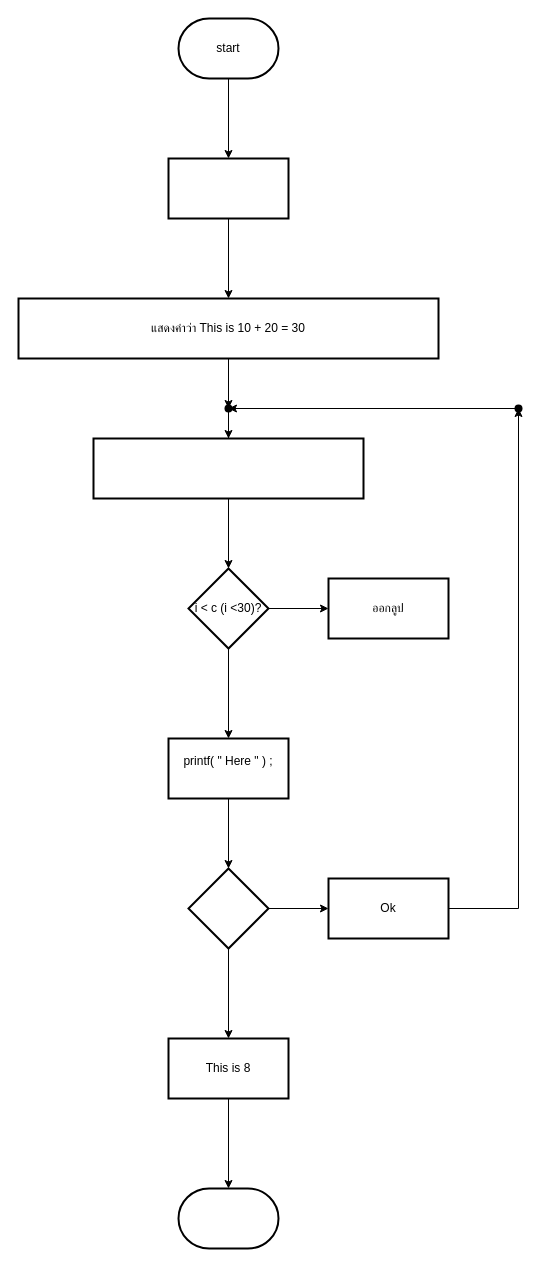
The diagram is 546 pixels wide and 1266 high, and some of its shapes have lost their labels. The centre of each missing label's shape, as x and y in pixels:
end: point 228,1218
i = 8 ?: point 228,908
int a = 10 ; int b = 20 ; int c = 30 ; int d = 40 ;: point 228,188
สร้างลูป for ( int i = 0 ; i < d - c ; i++ ) {: point 228,468
